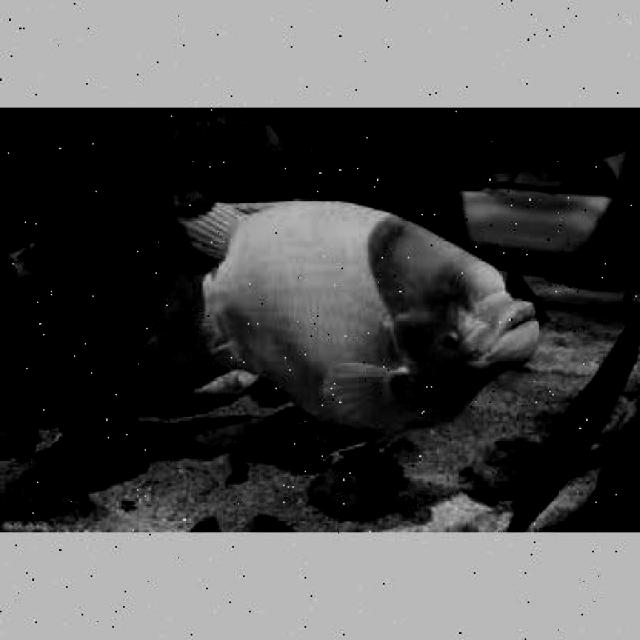gurame: (160, 199, 536, 432)
